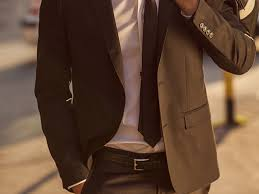F_tie: (87, 144, 189, 177)
